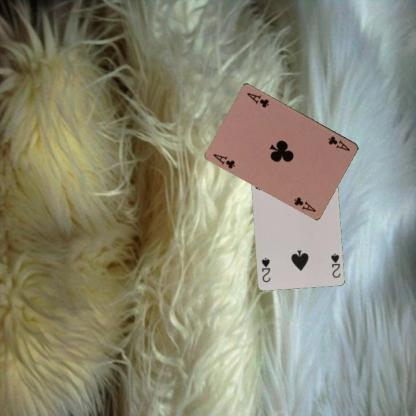2s: (328, 250, 342, 279)
Ac: (210, 151, 237, 170), (326, 133, 351, 152)
